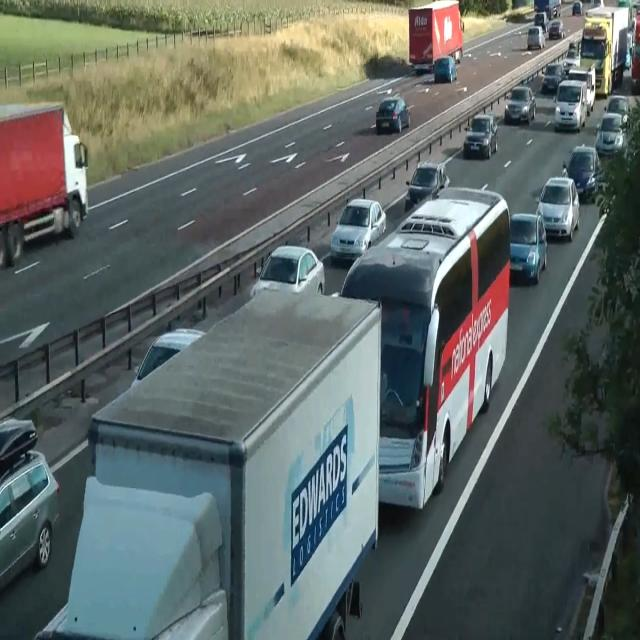bus: (0, 448, 60, 588), (130, 326, 207, 389), (250, 244, 325, 298), (329, 197, 386, 264), (536, 175, 580, 241), (509, 212, 547, 284), (562, 144, 601, 201), (0, 418, 38, 469), (406, 160, 450, 204), (463, 112, 498, 158), (595, 111, 625, 157), (376, 96, 410, 134), (504, 84, 536, 124), (583, 167, 611, 203), (604, 95, 630, 129), (542, 63, 564, 93), (433, 56, 457, 83), (562, 46, 580, 74), (527, 25, 545, 50), (548, 20, 565, 39), (534, 11, 548, 33), (548, 0, 560, 19), (572, 0, 583, 16), (624, 51, 632, 69)
car: (337, 185, 511, 511)
jeep: (35, 474, 228, 638), (554, 78, 588, 132), (568, 64, 596, 114)
minibus: (35, 288, 383, 639), (0, 100, 88, 268), (579, 5, 629, 97), (408, 0, 464, 81), (630, 10, 640, 92), (534, 0, 561, 20)
